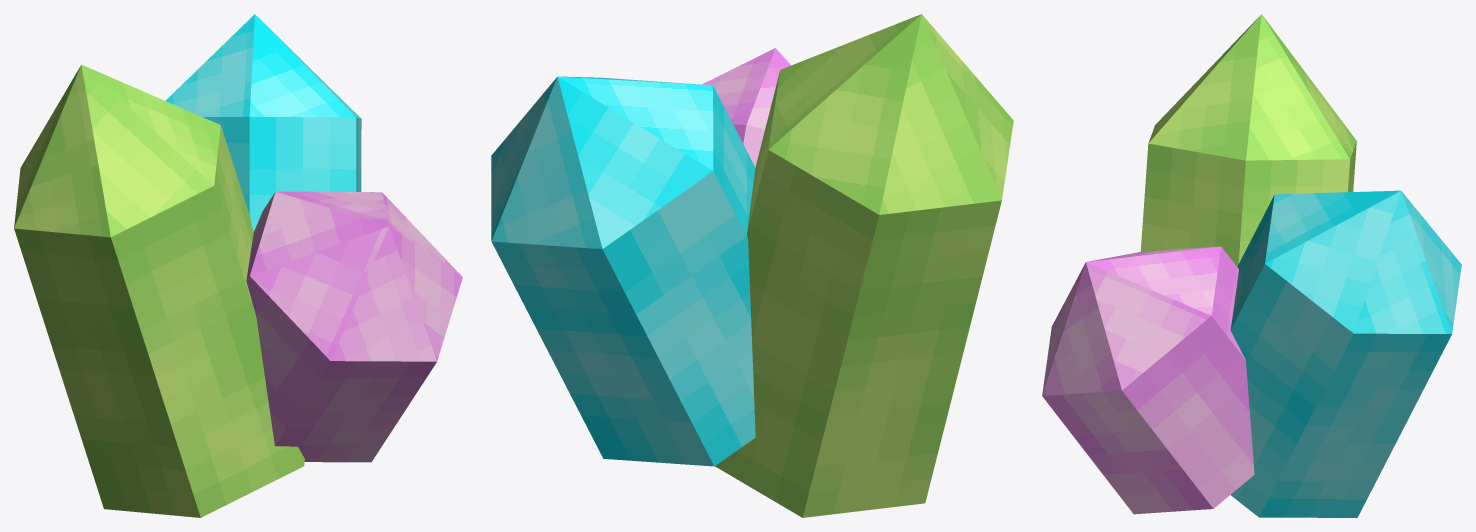
Rendered from crystals.gltf.
3 renders of one model, left to right at view 1: azimuth 30°, elevation 25°; view 2: azimuth 150°, elevation 25°; view 3: azimuth 270°, elevation 25°, orthographic. The views are drawn at different scales.
Visible parts, largest first — view 1: cylinder (×3); view 2: cylinder (×3); view 3: cylinder (×3).
Boxes of the visible parts, x1=… form: cylinder (×3): x1=14, y1=14, x2=462, y2=517; cylinder (×3): x1=491, y1=14, x2=1013, y2=517; cylinder (×3): x1=1042, y1=14, x2=1461, y2=517.
Bounding box in the file's own units: 0.549 × 0.5797 × 0.5178.
3 materials, 3 textured.
